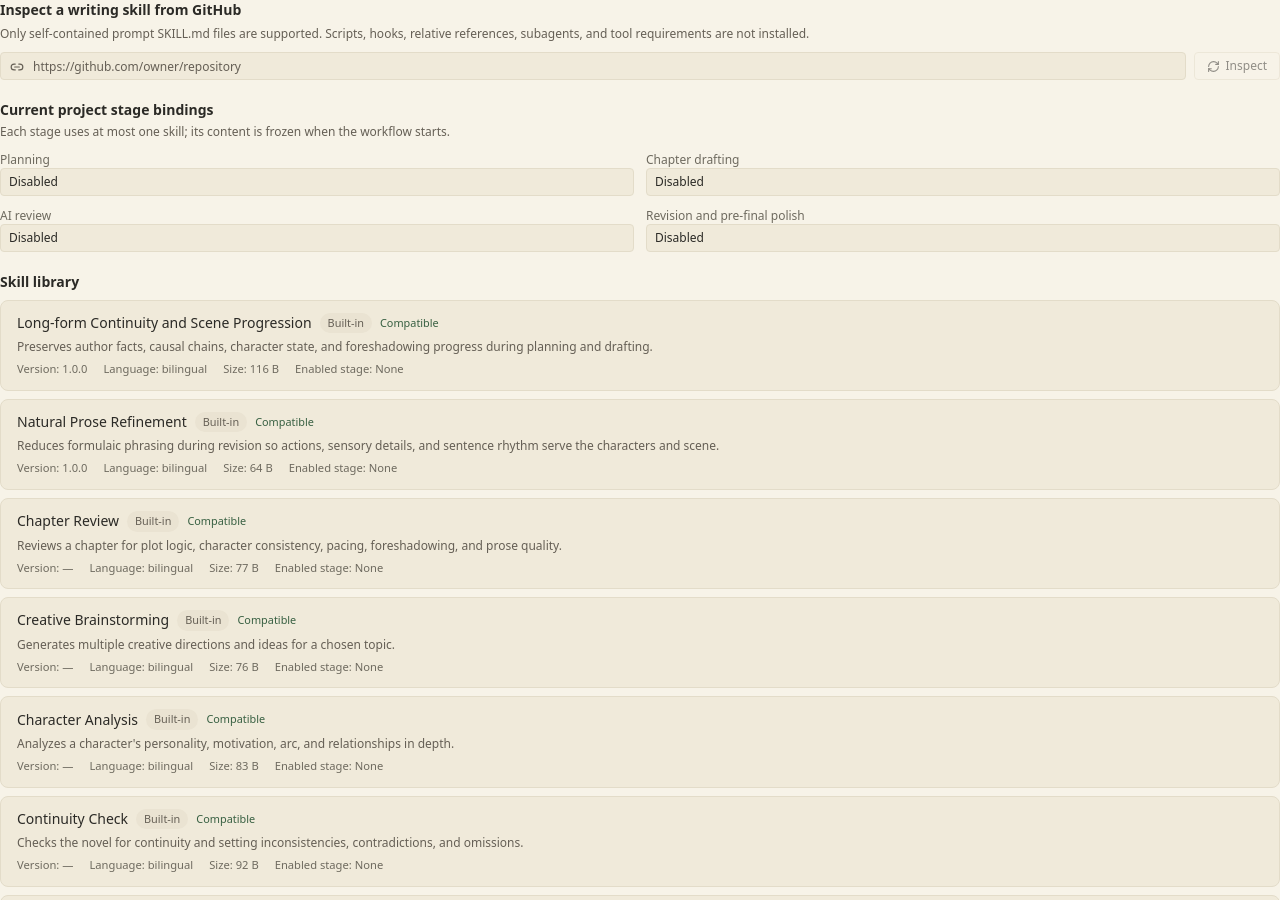
Test: writing skill settings › uses an English separator when one skill is enabled for multiple stages
Select "Long-form Continuity and Scene Progression" in the dropdown named "Planning skill" at coordinates (317, 182), box top-left (0, 168), bottom-right (634, 196)
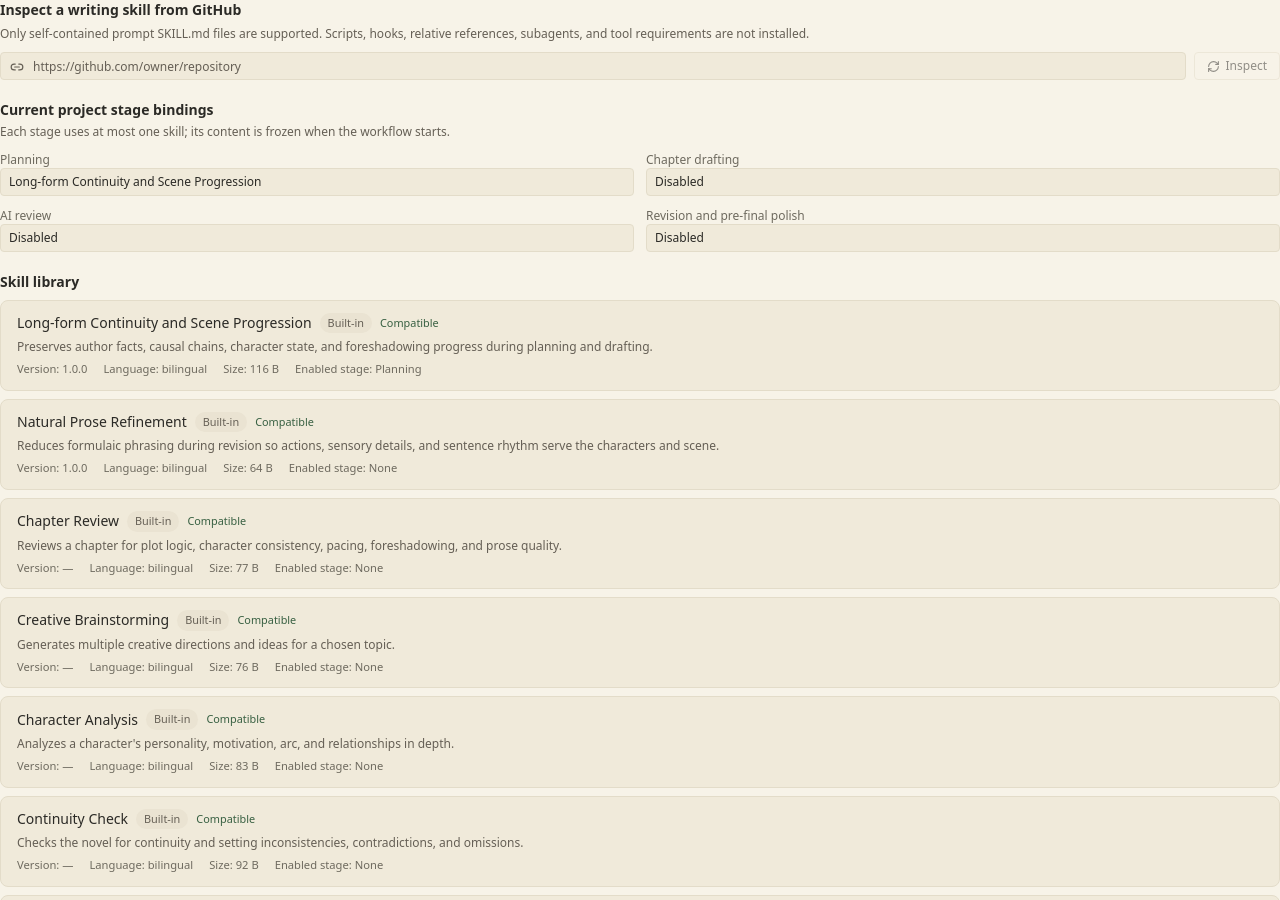
Select "Long-form Continuity and Scene Progression" in the dropdown named "Chapter drafting skill" at coordinates (963, 182), box top-left (646, 168), bottom-right (1279, 196)
(page scrolled)
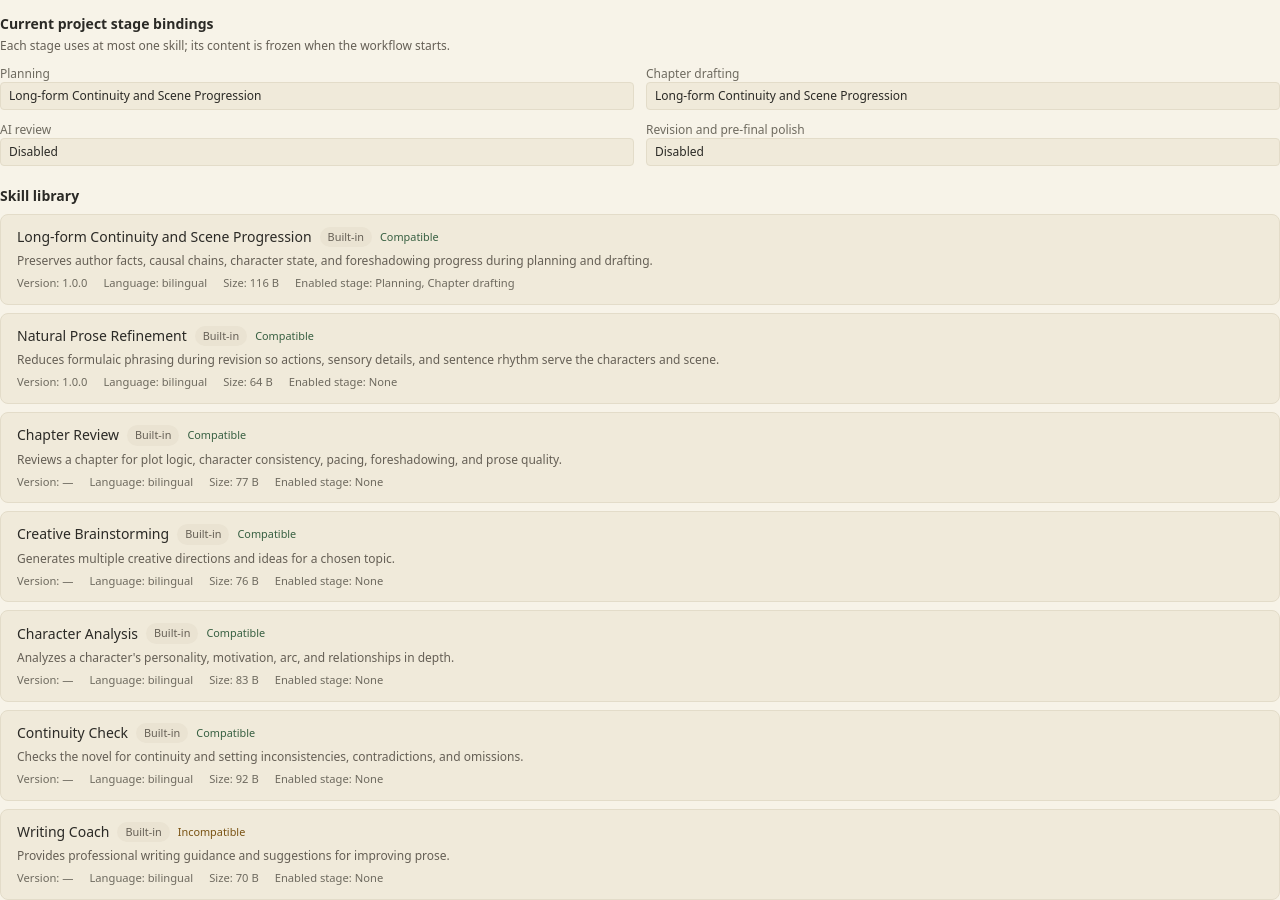
Now the element that starts with "Skill library" shows "Planning, Chapter drafting", box top-left (375, 275), bottom-right (515, 290)
